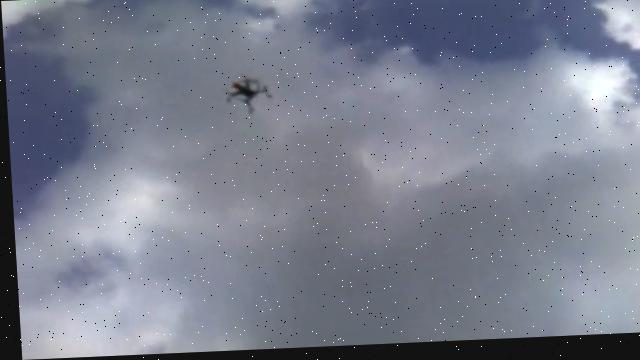drone: (222, 77, 274, 120)
